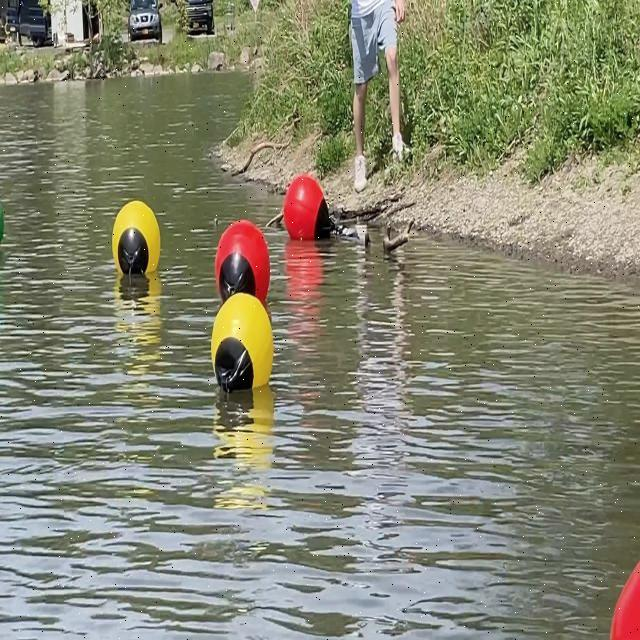buoy: (212, 294, 276, 394), (216, 217, 272, 306), (113, 198, 162, 282), (282, 174, 336, 243), (604, 553, 640, 640)
